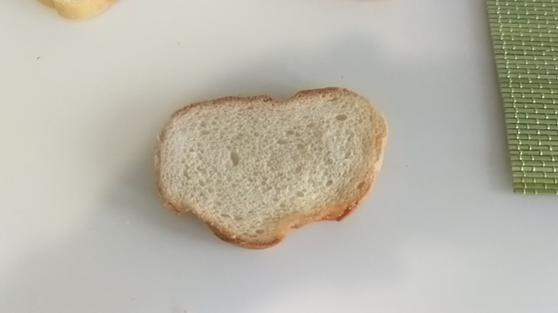white_bread: (157, 85, 389, 258)
